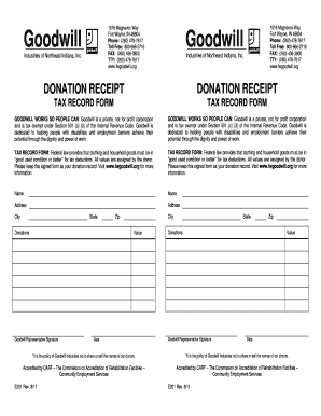textbox: (10, 297, 134, 315), (164, 236, 288, 254), (164, 296, 288, 314), (11, 236, 133, 254), (163, 260, 288, 277), (10, 261, 134, 278), (164, 248, 288, 265), (164, 273, 288, 290), (11, 285, 134, 302), (165, 285, 288, 302), (10, 273, 135, 289), (10, 250, 133, 266), (128, 283, 160, 303), (127, 272, 160, 290), (128, 297, 160, 315), (282, 285, 313, 302), (130, 261, 160, 278), (282, 248, 310, 266), (128, 249, 158, 265), (129, 236, 157, 253), (285, 295, 310, 314), (285, 236, 310, 254), (283, 261, 311, 277), (283, 273, 311, 289)
textline: (180, 186, 308, 198), (181, 199, 309, 210), (26, 188, 158, 198), (28, 202, 160, 211), (12, 327, 86, 338), (244, 327, 313, 338), (164, 328, 239, 338), (92, 327, 156, 338), (179, 211, 241, 222), (27, 212, 87, 222), (276, 211, 310, 222), (123, 213, 160, 222), (254, 212, 267, 222), (100, 212, 113, 222)
